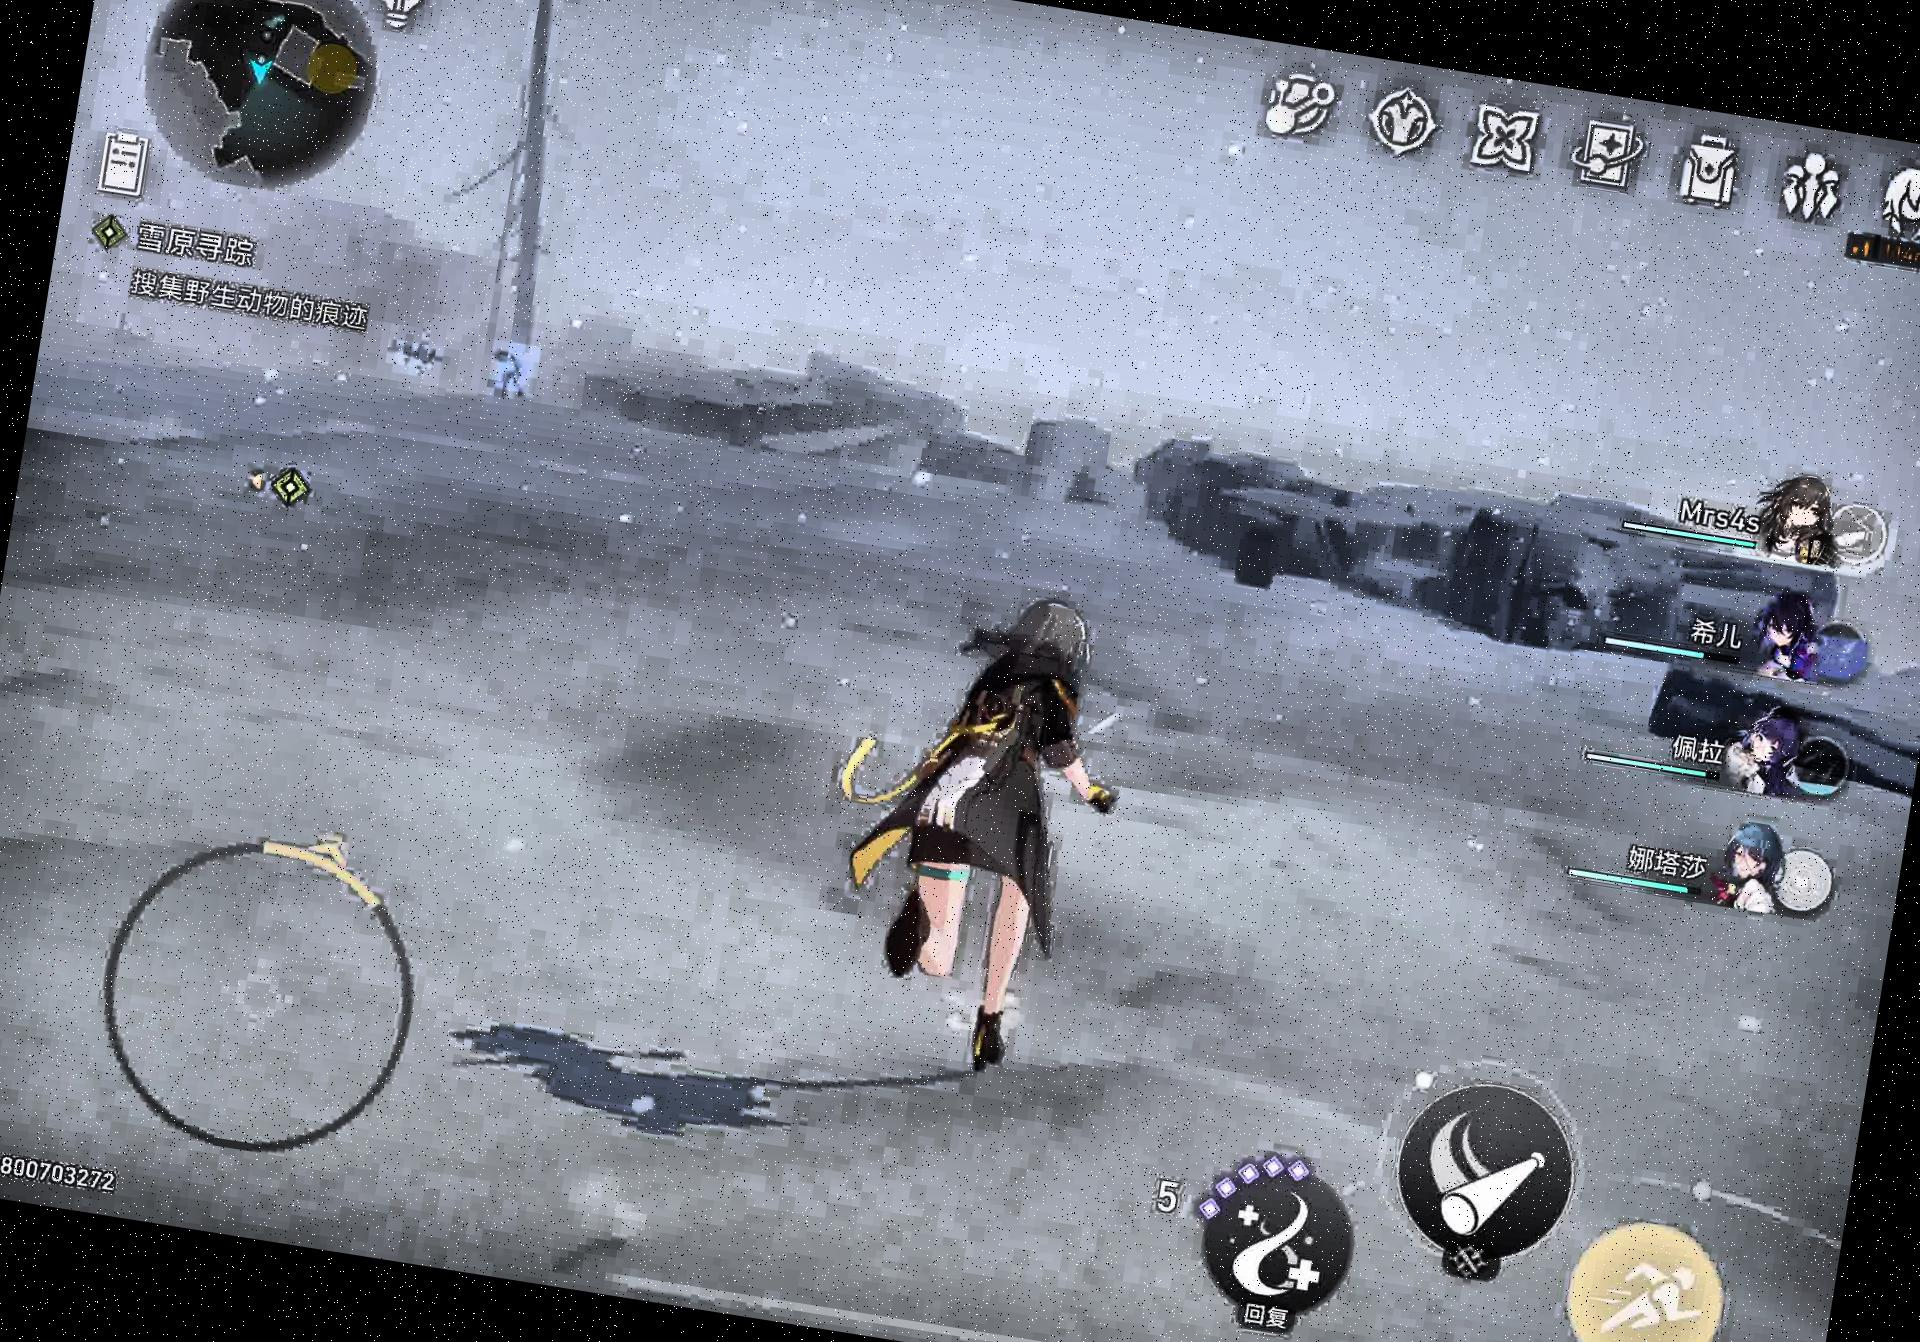Box: (1224, 515, 1293, 601)
Enemy: (376, 322, 458, 395), (476, 334, 549, 413)
Self: (794, 567, 1154, 1103)
